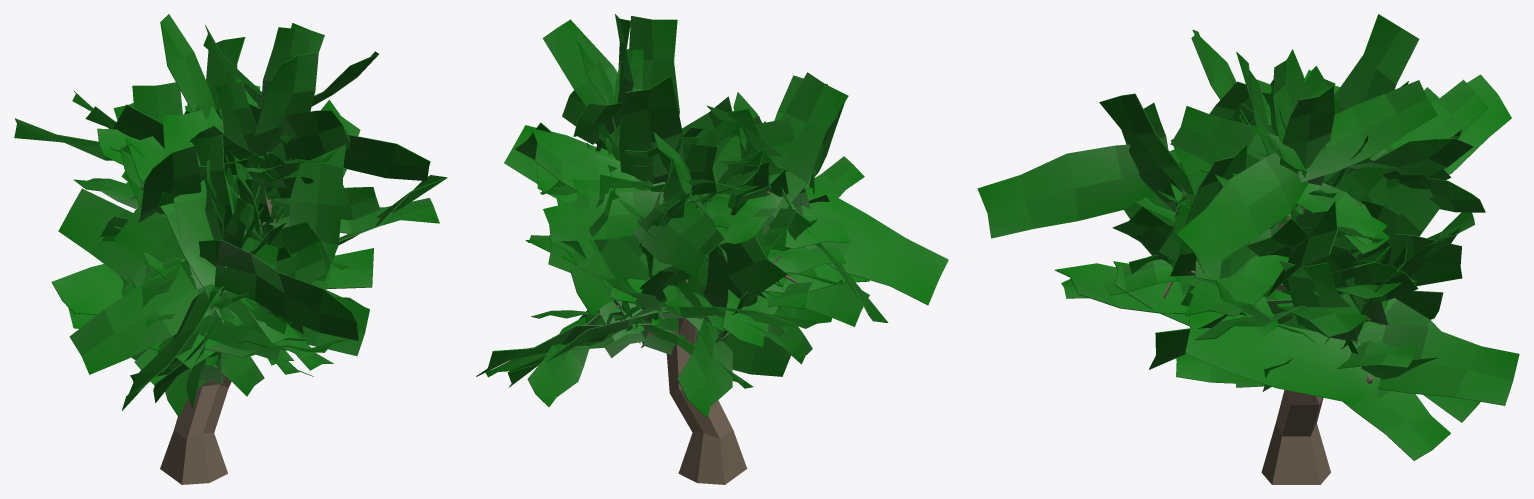
Rendered from Arvores4.fbx.
3 renders of one model, left to right at view 1: azimuth 30°, elevation 25°; view 2: azimuth 150°, elevation 25°; view 3: azimuth 270°, elevation 25°, orthographic. The views are drawn at different scales.
Visible parts, largest first — view 1: Arvore4_LOD0; view 2: Arvore4_LOD0; view 3: Arvore4_LOD0.
Boxes of the visible parts, box(x1,y1,x2,y2) form: Arvore4_LOD0: box(14, 14, 447, 484); Arvore4_LOD0: box(476, 14, 948, 484); Arvore4_LOD0: box(977, 14, 1519, 484).
Size of what is drawn, in the model's own units: 877 by 974 by 1022.
